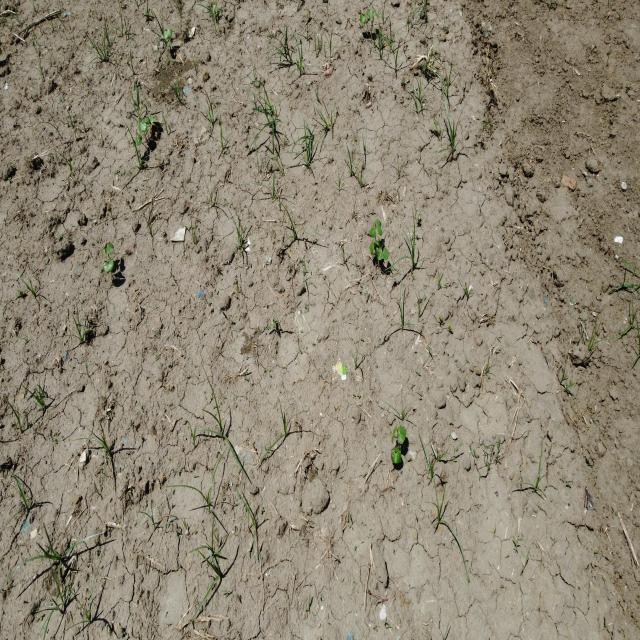seedling_s3: (103, 259, 114, 273), (397, 426, 406, 443), (391, 451, 401, 463), (369, 222, 376, 238), (139, 121, 147, 133), (376, 220, 382, 236), (382, 247, 389, 260), (163, 28, 172, 38), (392, 426, 397, 443), (107, 242, 114, 254), (377, 247, 383, 260), (369, 239, 374, 254), (136, 133, 142, 145), (368, 9, 374, 21), (372, 7, 379, 17), (147, 115, 154, 124), (359, 14, 365, 23), (143, 117, 150, 124), (391, 447, 400, 452), (363, 12, 368, 19), (168, 39, 172, 47), (375, 239, 379, 246), (154, 115, 158, 120)
